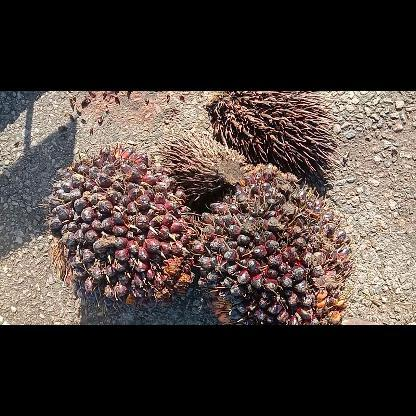Janjang kosong: (206, 90, 348, 178), (158, 130, 246, 200)
TBS mentah: (40, 143, 200, 313), (192, 162, 354, 324)
